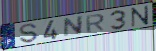3: (109, 8, 127, 31)
4: (42, 18, 61, 41)
N: (63, 14, 85, 38), (131, 4, 150, 28)
R: (85, 13, 107, 34)
S: (19, 22, 39, 43)
